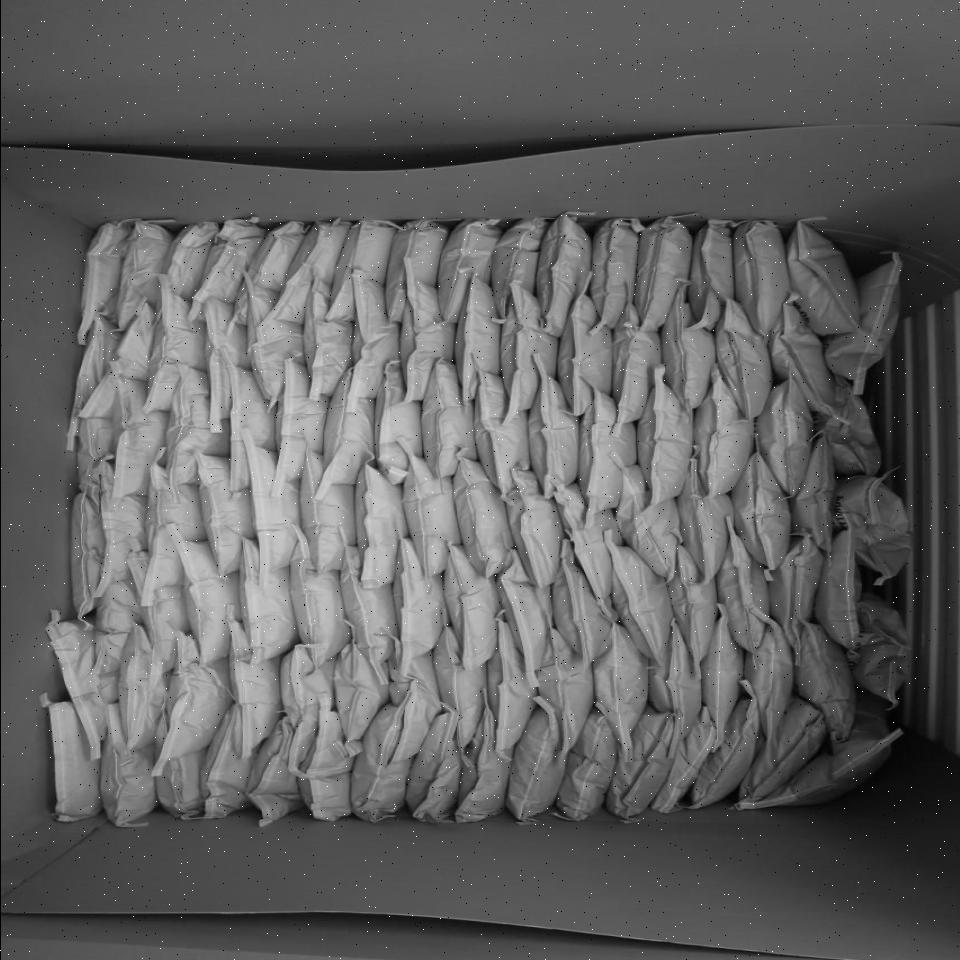bag: (734, 727, 900, 808), (820, 252, 899, 398), (350, 680, 427, 823), (154, 633, 229, 769), (554, 479, 623, 618), (742, 693, 823, 805), (140, 273, 204, 412), (605, 531, 671, 664), (264, 219, 348, 323), (242, 270, 305, 405), (160, 361, 229, 484), (577, 379, 635, 525), (499, 281, 557, 426), (82, 301, 151, 419), (126, 546, 189, 675), (176, 537, 238, 668), (787, 219, 857, 335), (694, 362, 754, 497), (635, 369, 694, 506), (398, 261, 455, 402), (603, 710, 676, 820), (242, 433, 297, 578), (143, 463, 202, 597), (833, 476, 909, 580), (192, 452, 255, 575), (289, 535, 348, 665), (472, 372, 533, 496), (299, 446, 359, 572), (94, 700, 153, 828), (616, 464, 679, 583), (401, 449, 461, 573), (230, 616, 282, 759), (496, 547, 551, 682), (592, 617, 648, 749), (234, 538, 293, 663), (190, 220, 263, 321), (691, 693, 756, 806), (420, 359, 482, 477), (795, 625, 857, 742), (455, 697, 513, 822), (503, 466, 563, 586), (712, 300, 772, 419), (536, 625, 591, 754), (730, 450, 789, 570), (453, 456, 512, 576), (742, 614, 796, 745), (443, 542, 499, 668), (323, 222, 394, 321), (677, 455, 734, 577), (755, 373, 812, 495), (274, 358, 330, 481), (280, 646, 335, 771), (225, 355, 275, 492), (337, 542, 394, 662), (392, 538, 445, 667), (717, 518, 768, 652), (486, 614, 536, 750), (557, 706, 616, 821), (650, 707, 711, 818), (535, 214, 590, 337), (553, 540, 609, 660), (436, 218, 500, 323), (45, 700, 100, 822), (658, 291, 712, 415), (110, 378, 166, 497), (348, 269, 399, 399), (246, 716, 304, 830), (199, 708, 257, 821), (631, 217, 690, 328), (557, 293, 611, 414), (50, 621, 103, 744), (354, 465, 407, 588), (526, 365, 576, 495), (382, 220, 445, 323), (608, 301, 658, 430), (405, 709, 462, 822), (730, 219, 786, 334), (451, 274, 502, 400), (109, 222, 168, 330), (434, 627, 486, 749), (769, 536, 827, 645), (297, 701, 350, 820), (322, 367, 374, 487), (486, 217, 546, 321), (301, 272, 350, 399), (508, 709, 563, 821), (651, 619, 702, 739), (372, 365, 423, 485), (202, 297, 247, 433), (813, 529, 862, 653), (771, 306, 828, 412), (668, 546, 718, 665), (114, 624, 161, 749), (77, 224, 127, 341), (586, 219, 639, 329), (824, 372, 880, 476), (333, 642, 384, 752), (852, 597, 906, 699), (700, 604, 743, 729), (686, 223, 734, 329), (793, 433, 835, 554), (101, 480, 143, 590), (72, 315, 115, 419), (162, 221, 215, 303), (94, 582, 136, 683), (386, 640, 438, 716), (70, 484, 99, 616), (250, 222, 302, 292), (159, 746, 207, 818), (79, 417, 114, 506)
